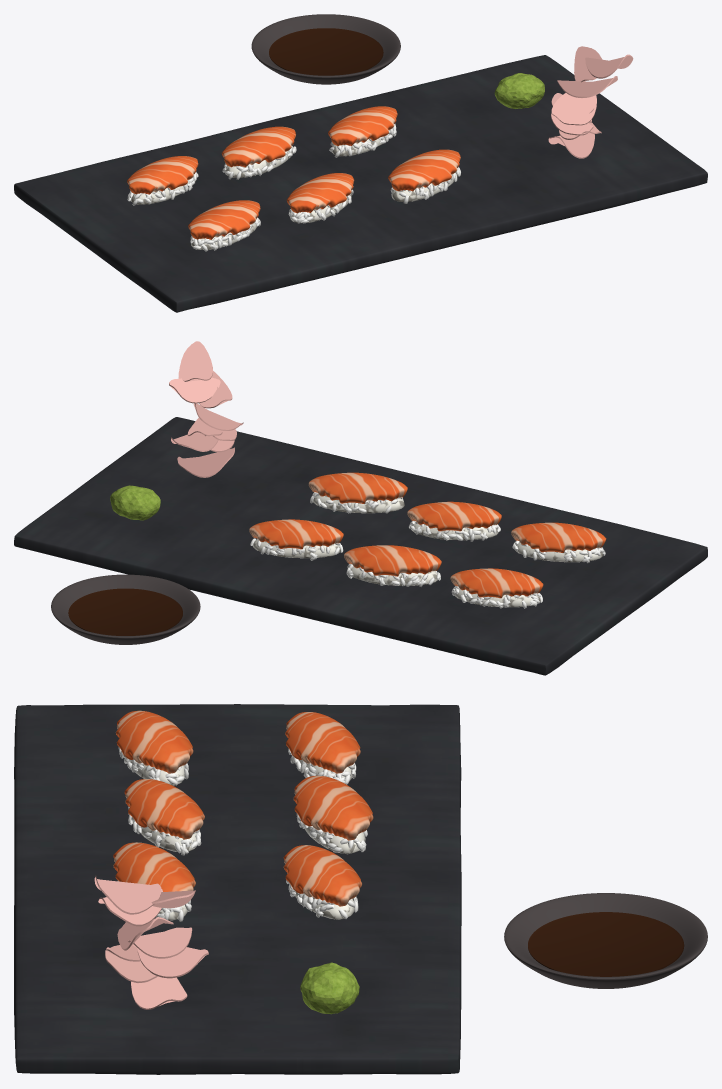
Rendered from salmon-nigiri.glb.
The picture shows the model from 3 angles, top to bottom: view 1: azimuth 30°, elevation 25°; view 2: azimuth 150°, elevation 25°; view 3: azimuth 270°, elevation 25°; orthographic projection. The views are drawn at different scales.
Visible parts, largest first — view 1: base, salmon, sushi-rice, ginger, soy, wasabi; view 2: base, salmon, sushi-rice, ginger, soy, wasabi; view 3: base, salmon, ginger, soy, sushi-rice, wasabi.
Boxes of the visible parts, x1,y1,x2,y2 form: base: [14, 14, 707, 312]; salmon: [127, 106, 460, 239]; sushi-rice: [127, 123, 460, 251]; ginger: [548, 46, 633, 158]; soy: [269, 28, 383, 75]; wasabi: [494, 73, 544, 108]; base: [14, 417, 707, 675]; salmon: [249, 472, 606, 598]; sushi-rice: [250, 492, 605, 608]; ginger: [169, 341, 243, 477]; soy: [68, 588, 182, 635]; wasabi: [110, 485, 160, 520]; base: [14, 704, 707, 1074]; salmon: [113, 710, 373, 906]; ginger: [94, 875, 208, 1009]; soy: [528, 912, 684, 976]; sushi-rice: [117, 747, 367, 921]; wasabi: [300, 962, 359, 1014].
Size of the model in its own units: 0.3201 by 0.0698 by 0.2639.
Materials: 8 (4 with a texture image).
